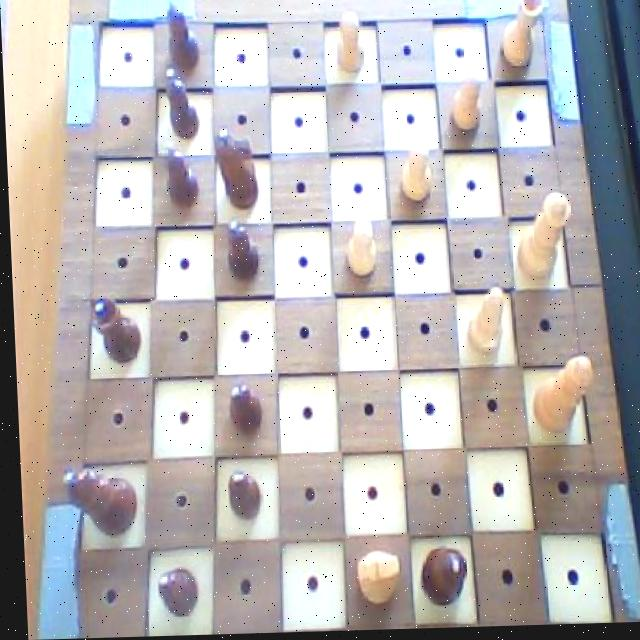black-bishop: (55, 462, 135, 544)
black-knight: (161, 68, 201, 146), (218, 214, 259, 287), (160, 142, 200, 215), (161, 0, 199, 74), (221, 468, 261, 525), (150, 564, 193, 617), (223, 380, 260, 441)
black-pawn: (412, 545, 462, 614)
black-queen: (84, 292, 141, 366)
black-rook: (460, 284, 508, 361)
white-bishop: (524, 354, 594, 444)
white-king: (350, 547, 399, 612)
white-knight: (337, 216, 379, 289), (395, 142, 433, 212), (329, 10, 367, 79), (447, 71, 487, 136)
white-pawn: (510, 188, 572, 287)
white-queen: (494, 0, 548, 76)
